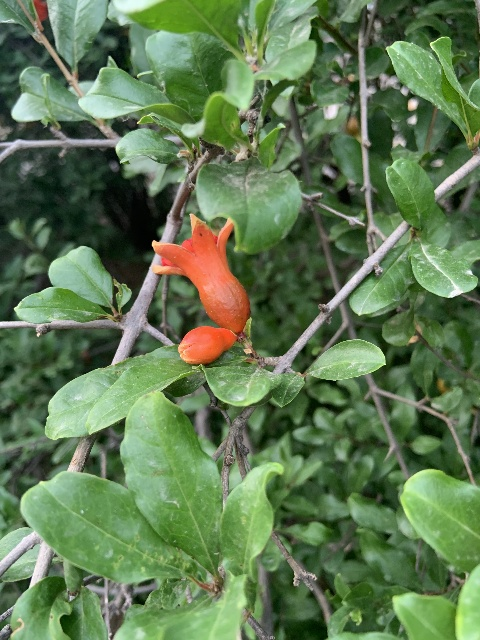bud: (178, 325, 236, 365)
flower: (150, 212, 249, 331)
